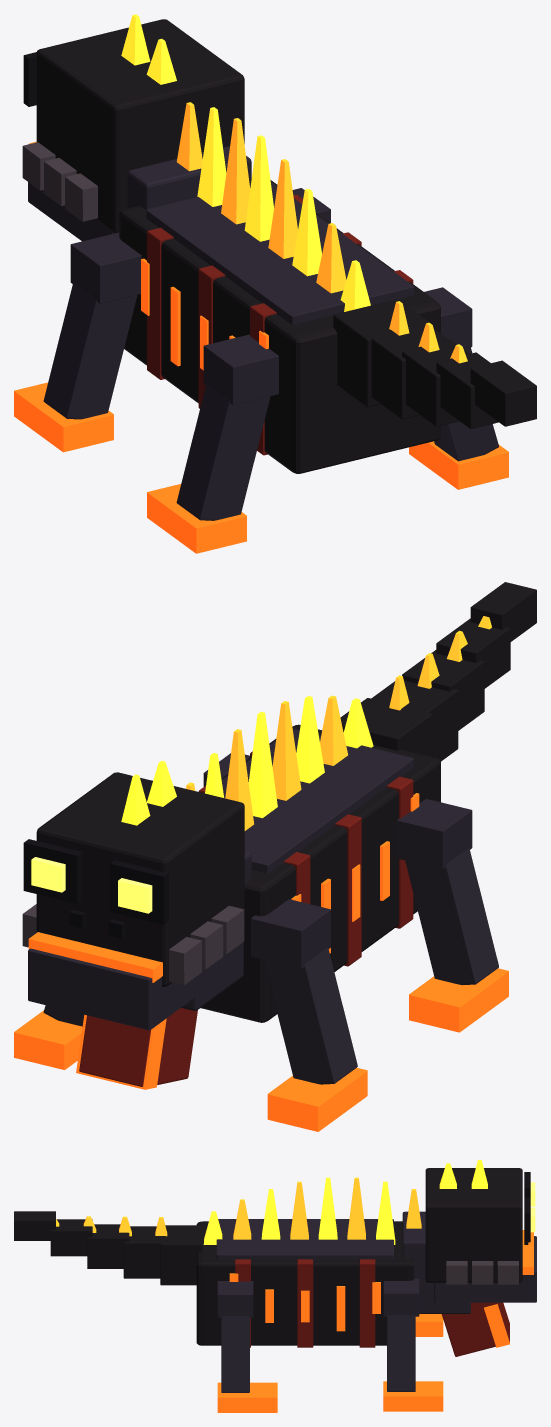
Rendered from lava-iguana.glb.
3 renders of one model, top to bottom at view 1: azimuth 30°, elevation 25°; view 2: azimuth 150°, elevation 25°; view 3: azimuth 270°, elevation 25°, orthographic. The views are drawn at different scales.
Visible parts, largest first — view 1: body, head, tail, leg.BR, leg.FR, leg.BL; view 2: head, body, leg.FR, leg.BR, tail, leg.FL; view 3: body, head, tail, leg.BL, leg.FL, leg.FR.
Boxes of the visible parts, left/top/right/bottom form: body: left=119, top=102, right=440, bottom=473; head: left=22, top=14, right=244, bottom=241; tail: left=333, top=299, right=536, bottom=428; leg.BR: left=147, top=334, right=278, bottom=553; leg.FR: left=14, top=232, right=141, bottom=452; leg.BL: left=409, top=287, right=508, bottom=489; head: left=22, top=760, right=244, bottom=1089; body: left=181, top=695, right=440, bottom=1022; leg.FR: left=250, top=899, right=367, bottom=1131; leg.BR: left=397, top=798, right=508, bottom=1032; tail: left=340, top=582, right=536, bottom=761; leg.FL: left=14, top=1005, right=84, bottom=1069; body: left=196, top=1177, right=470, bottom=1347; head: left=425, top=1160, right=536, bottom=1356; tail: left=14, top=1211, right=202, bottom=1285; leg.BL: left=217, top=1281, right=277, bottom=1412; leg.FL: left=383, top=1278, right=443, bottom=1411; leg.FR: left=415, top=1314, right=443, bottom=1336.
Bounding box in the file's own units: 0.9601 × 1 × 2.3.
